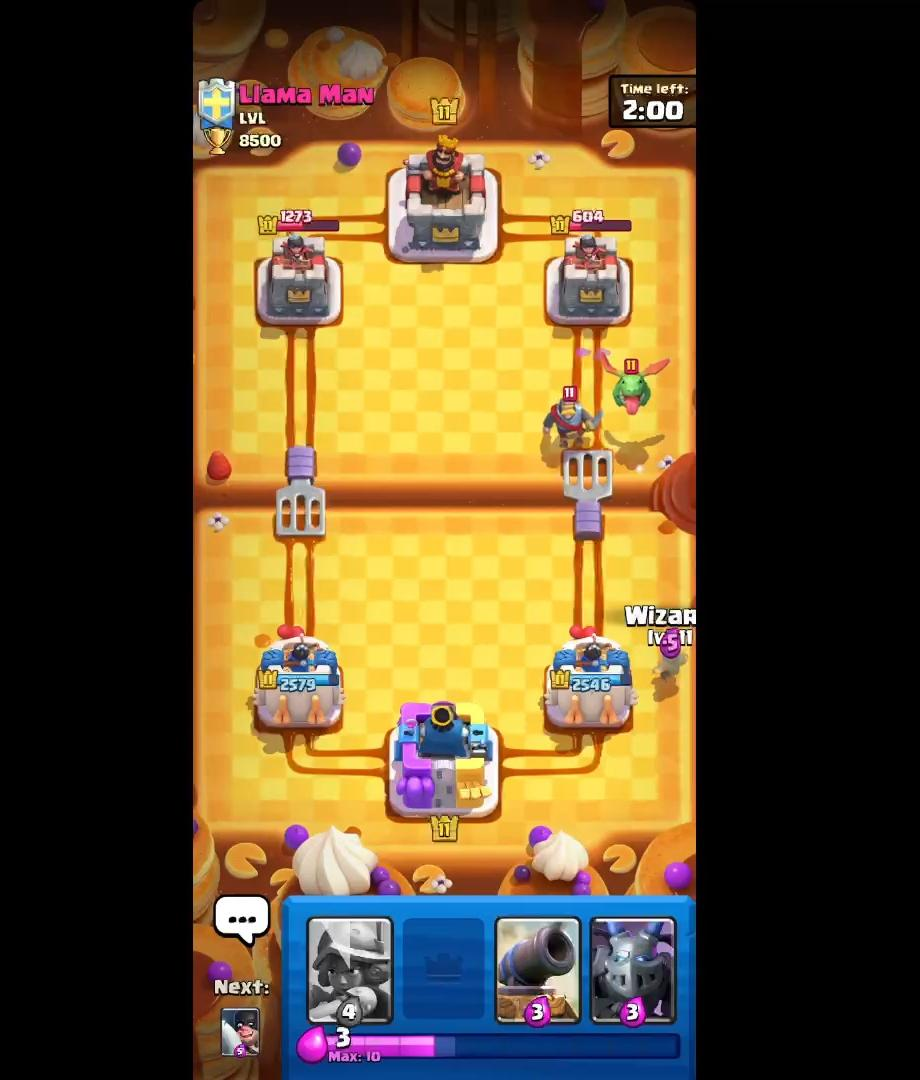Baby Dragon: (601, 347, 669, 421)
Knight: (536, 388, 607, 446)
